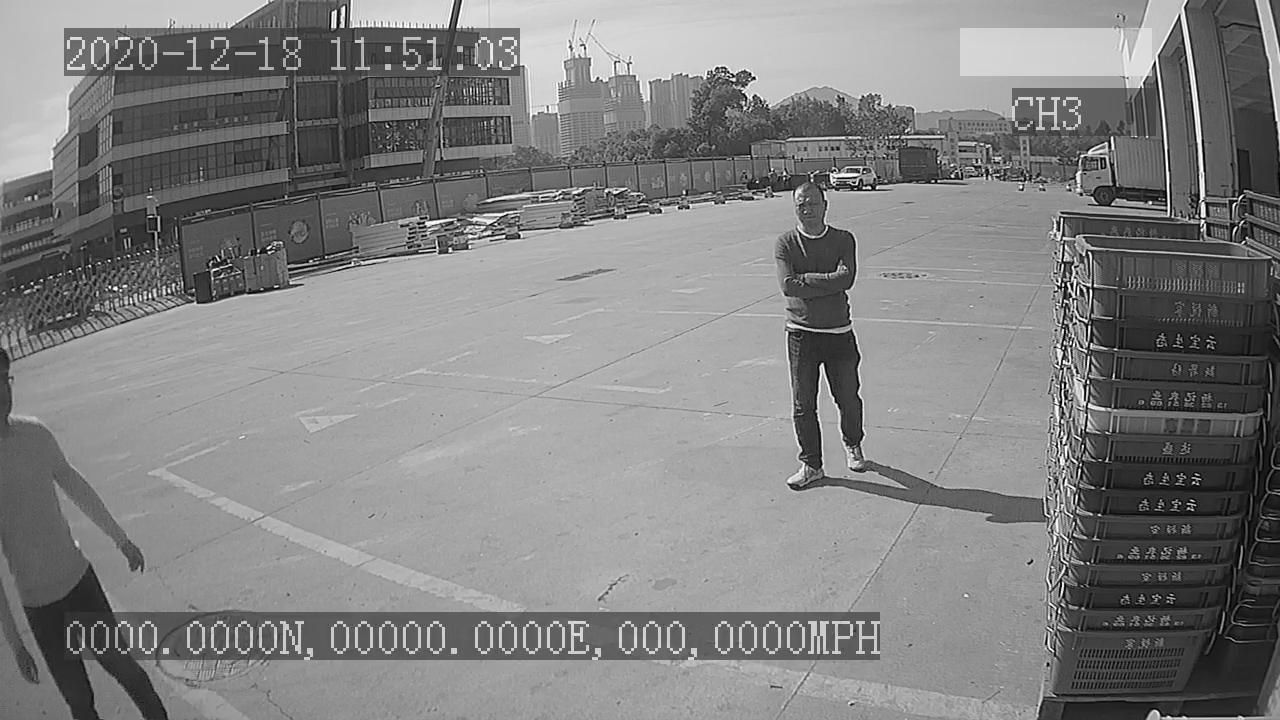person: (770, 174, 876, 494)
